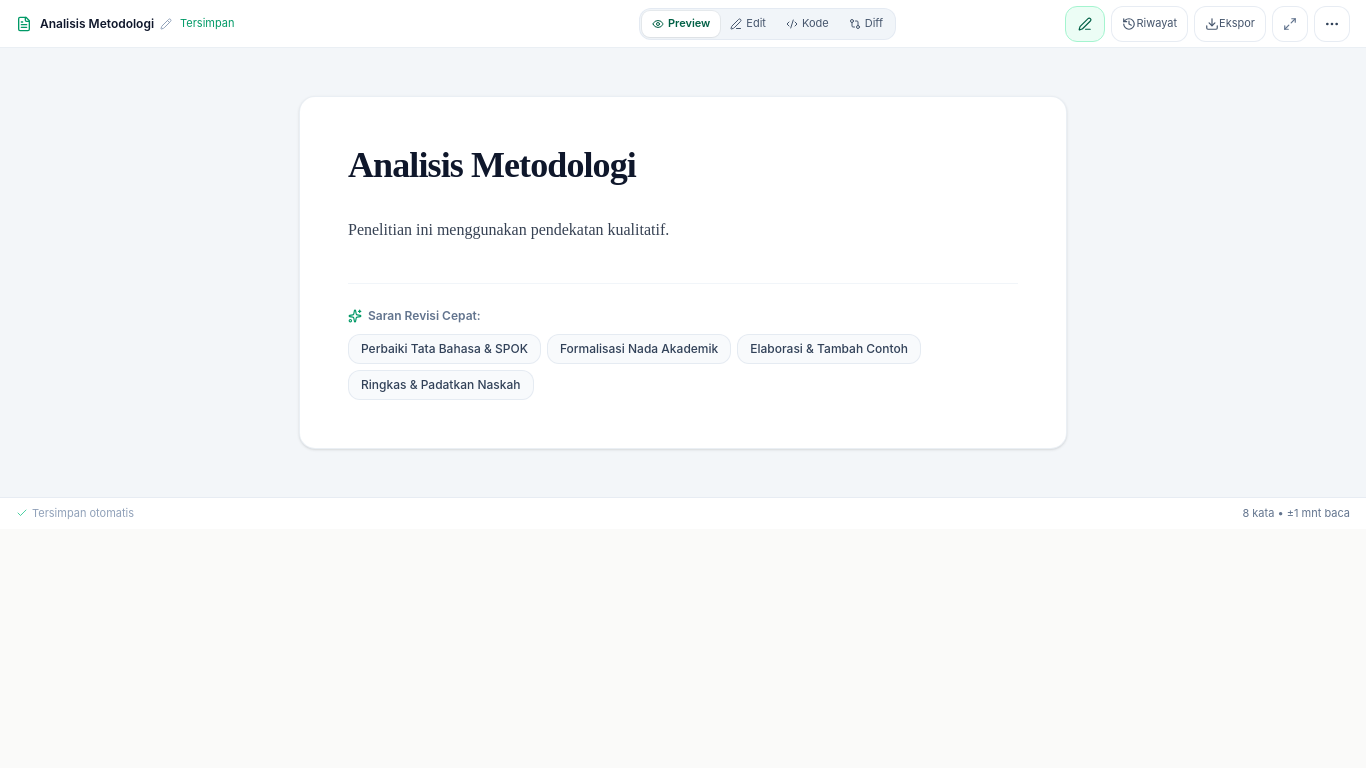
Test: Workspace Canvas 2.0 UX & Behavior › keeps a newer edit dirty when an older save acknowledges
Click the button titled "Edit Dokumen Langsung (Autosave)" at (748, 24), box left=720, top=10, right=776, bottom=36
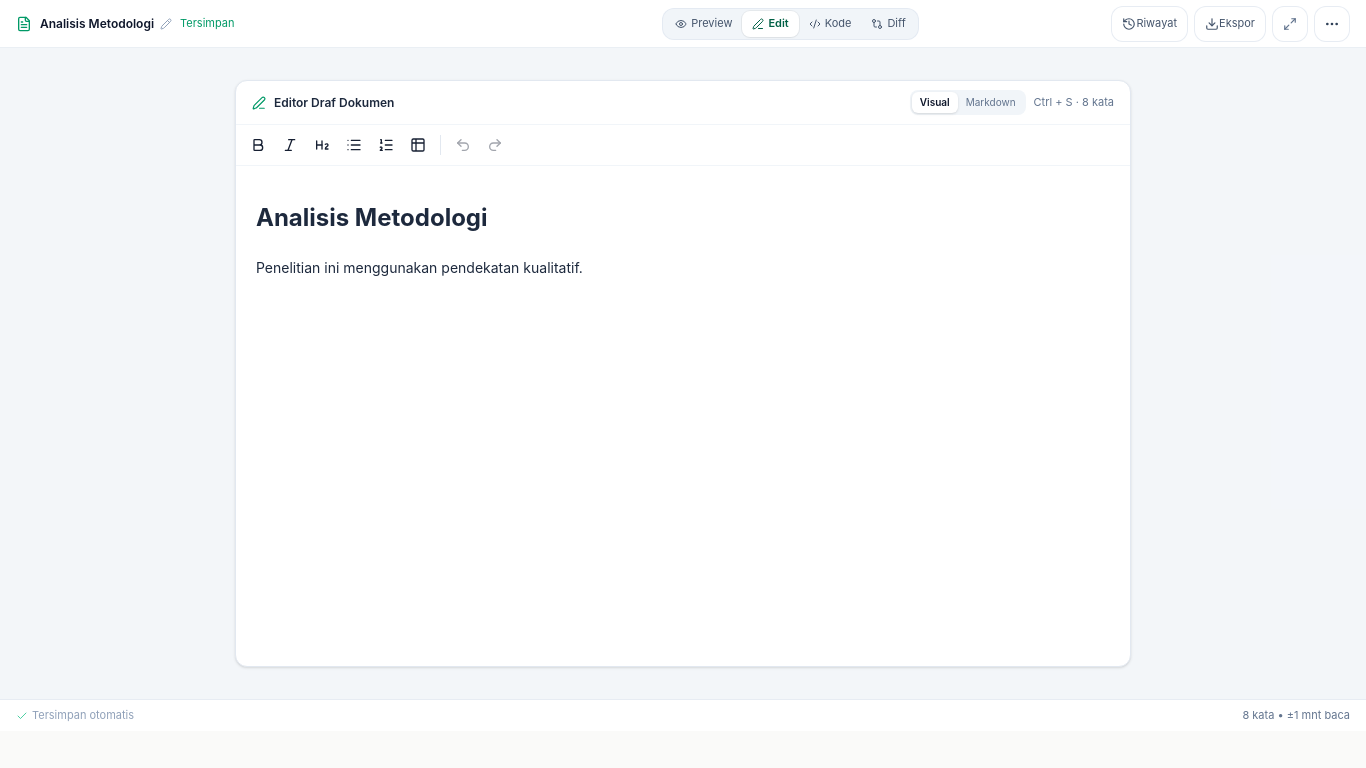
Click the button "Markdown" at (991, 102), box left=958, top=92, right=1024, bottom=113
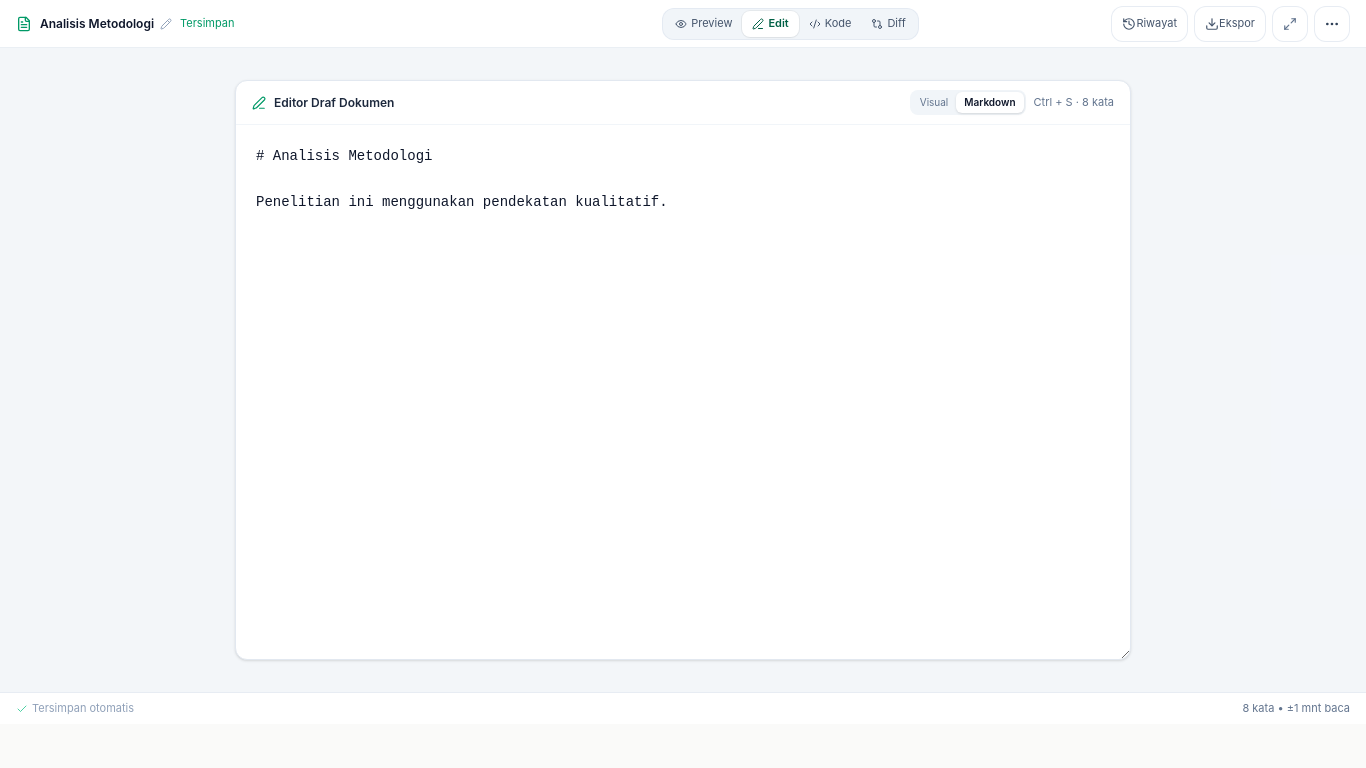
Replace the text in the text box with placeholder "Ketik atau sesuaikan draf dokumen Anda di sini..." with "# Draf A" at (683, 392), box left=236, top=125, right=1130, bottom=659
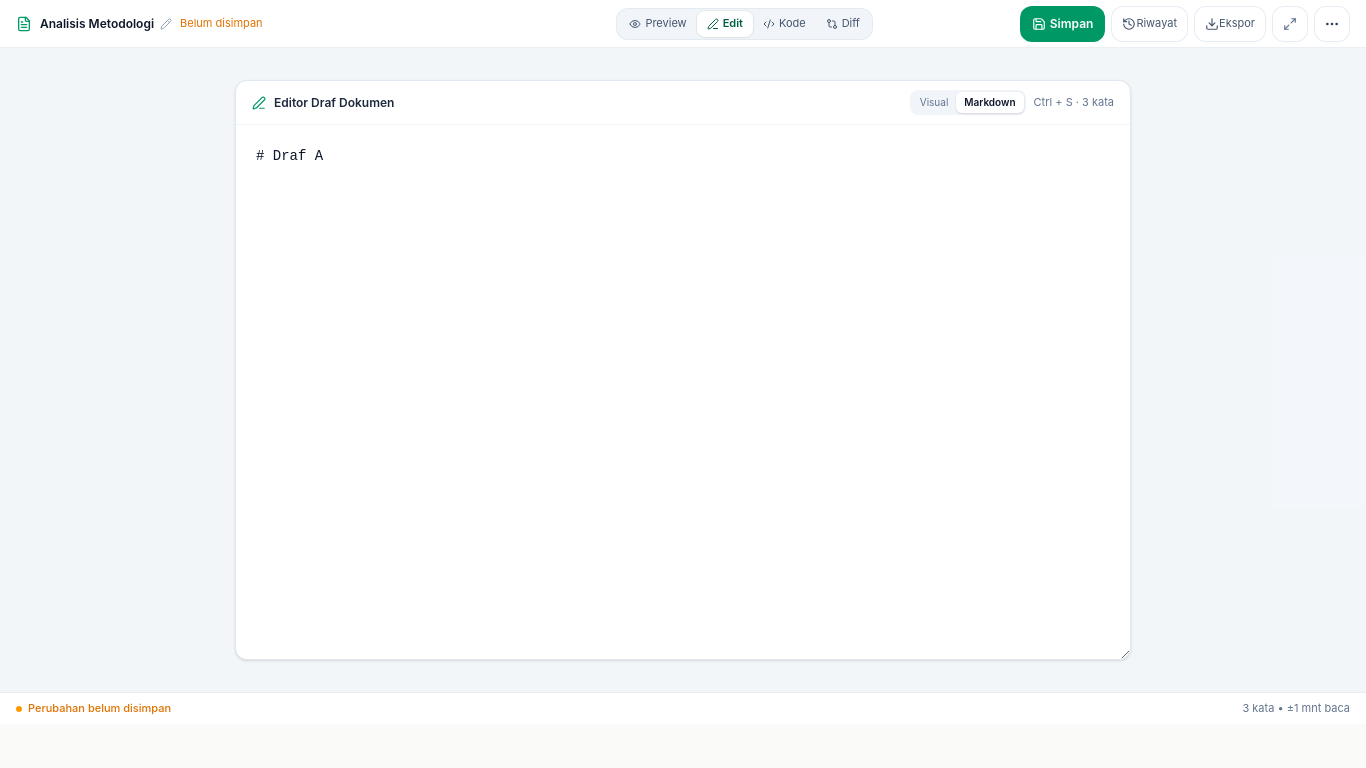
Click the button "Simpan" at (1063, 24), box left=1020, top=6, right=1105, bottom=42
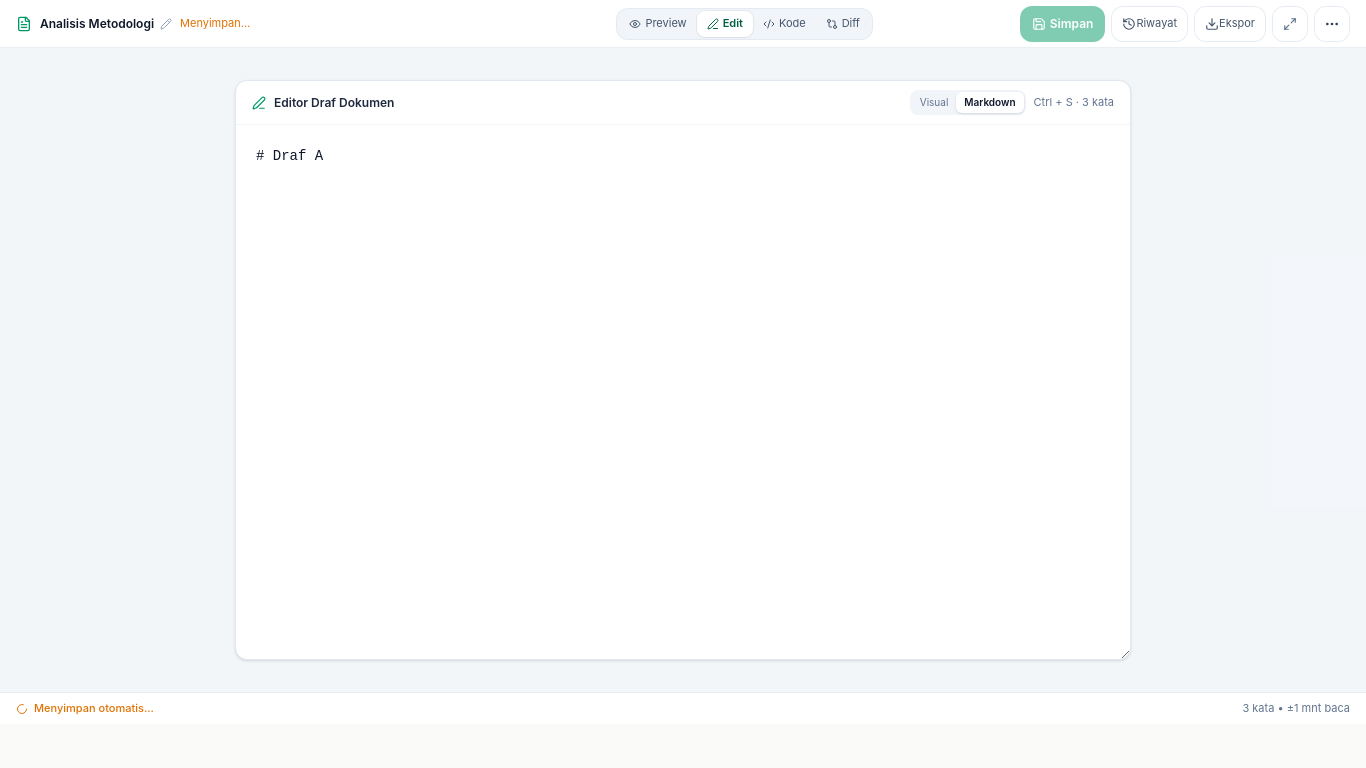
Replace the text in the text box with placeholder "Ketik atau sesuaikan draf dokumen Anda di sini..." with "# Draf B" at (683, 392), box left=236, top=125, right=1130, bottom=659
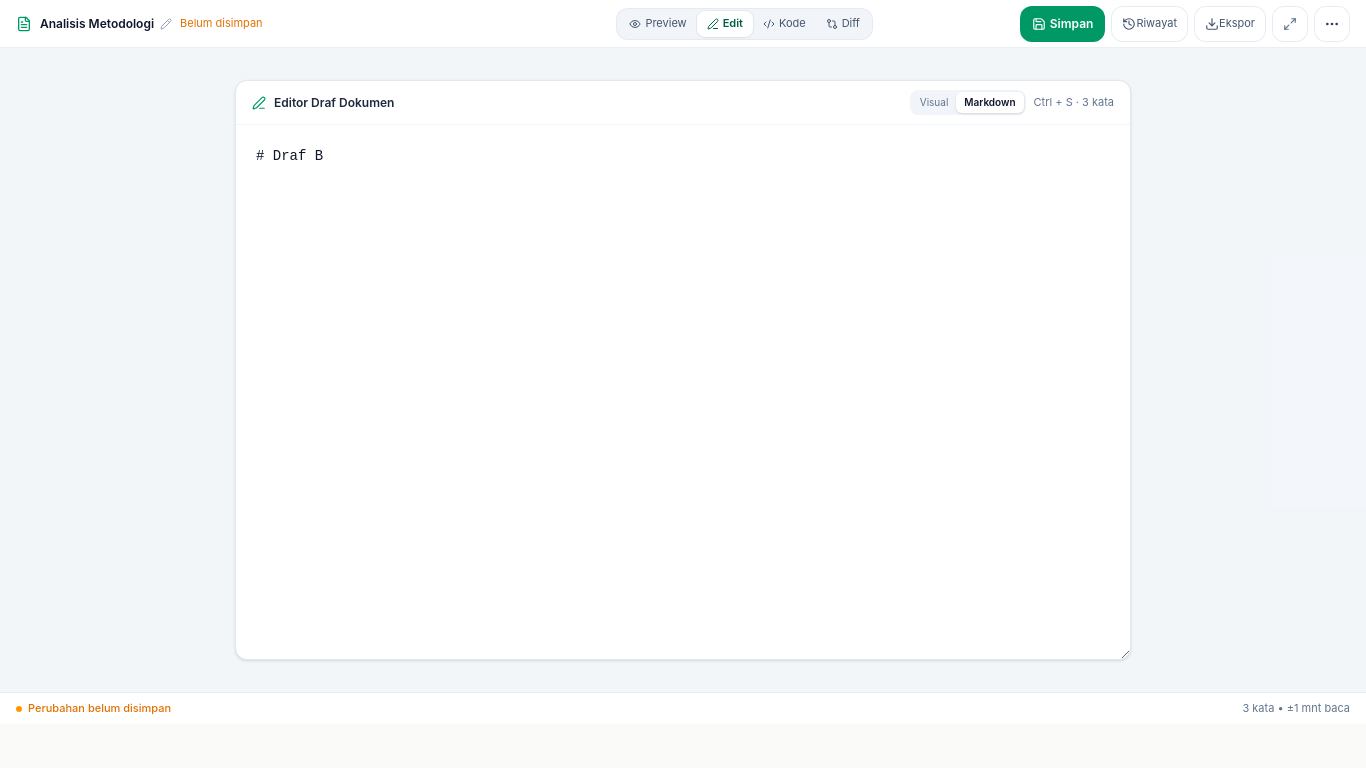
Expected: the text "Belum disimpan" is shown, left=180, top=15, right=263, bottom=32
